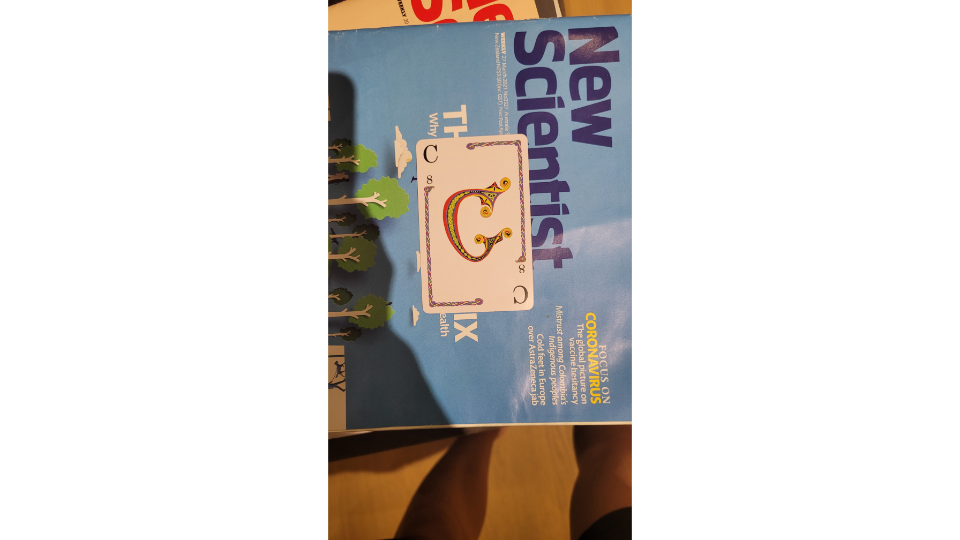C: (413, 132, 538, 315)
